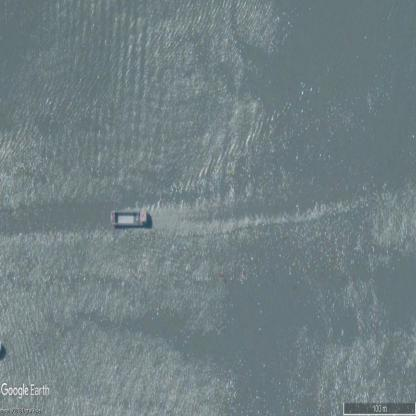ship: (110, 208, 150, 231)
